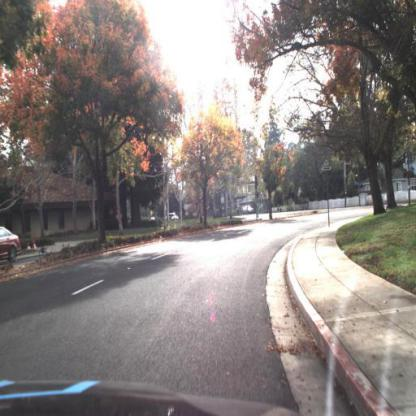car: (1, 227, 22, 267), (241, 204, 256, 217), (169, 212, 180, 222)
trafficLight-Red: (355, 168, 359, 178)
